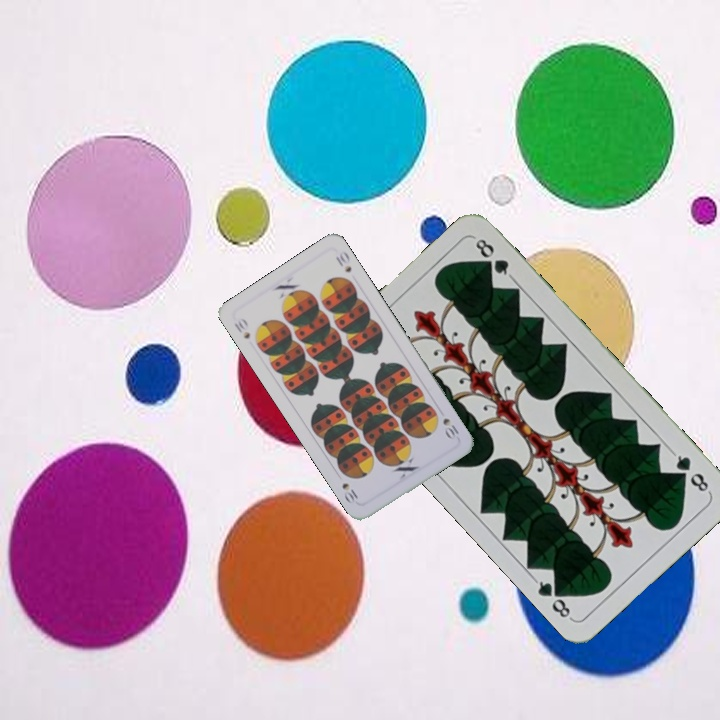G8: (668, 448, 713, 496)
S10: (439, 414, 461, 441), (230, 318, 253, 341)
